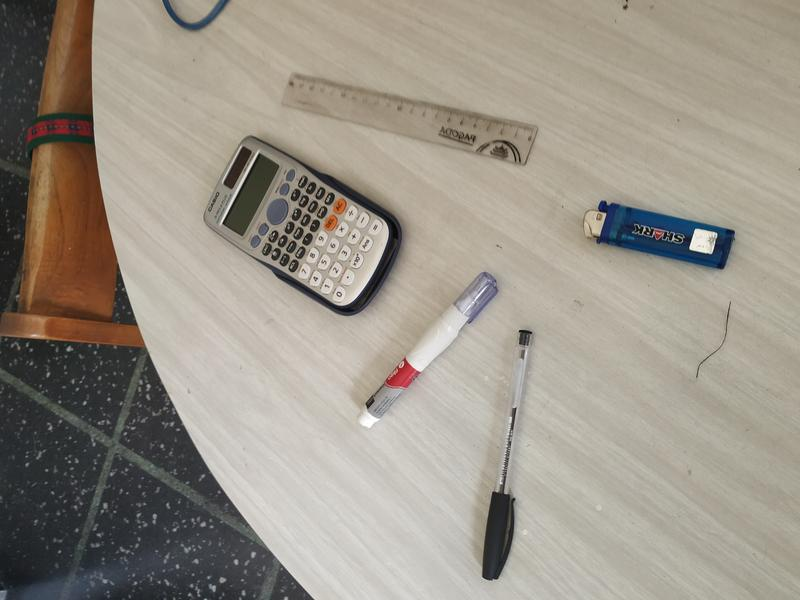calculadora: (188, 132, 406, 316)
corrector: (353, 269, 505, 438)
encendedor: (576, 187, 738, 277)
lapicera: (471, 331, 554, 587)
regla: (275, 63, 541, 175)
